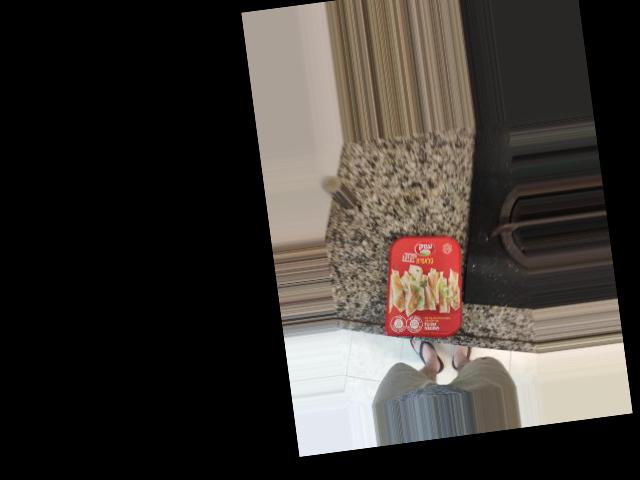cheese: (382, 175, 484, 296)
